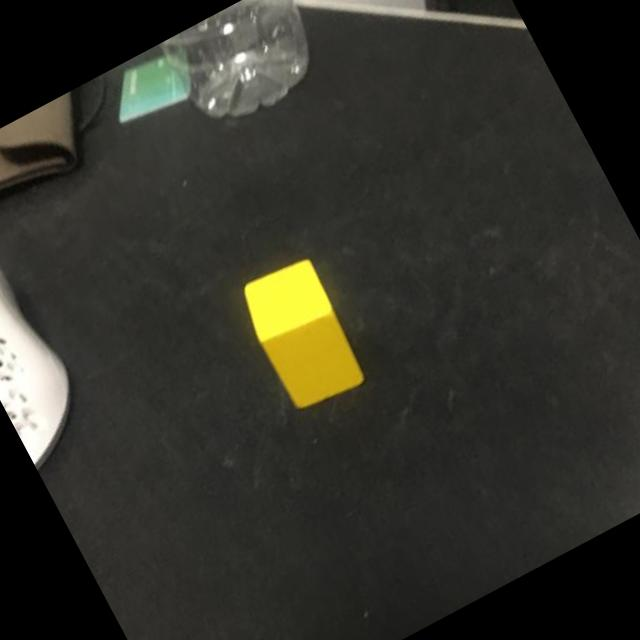yellow: (232, 252, 373, 416)
